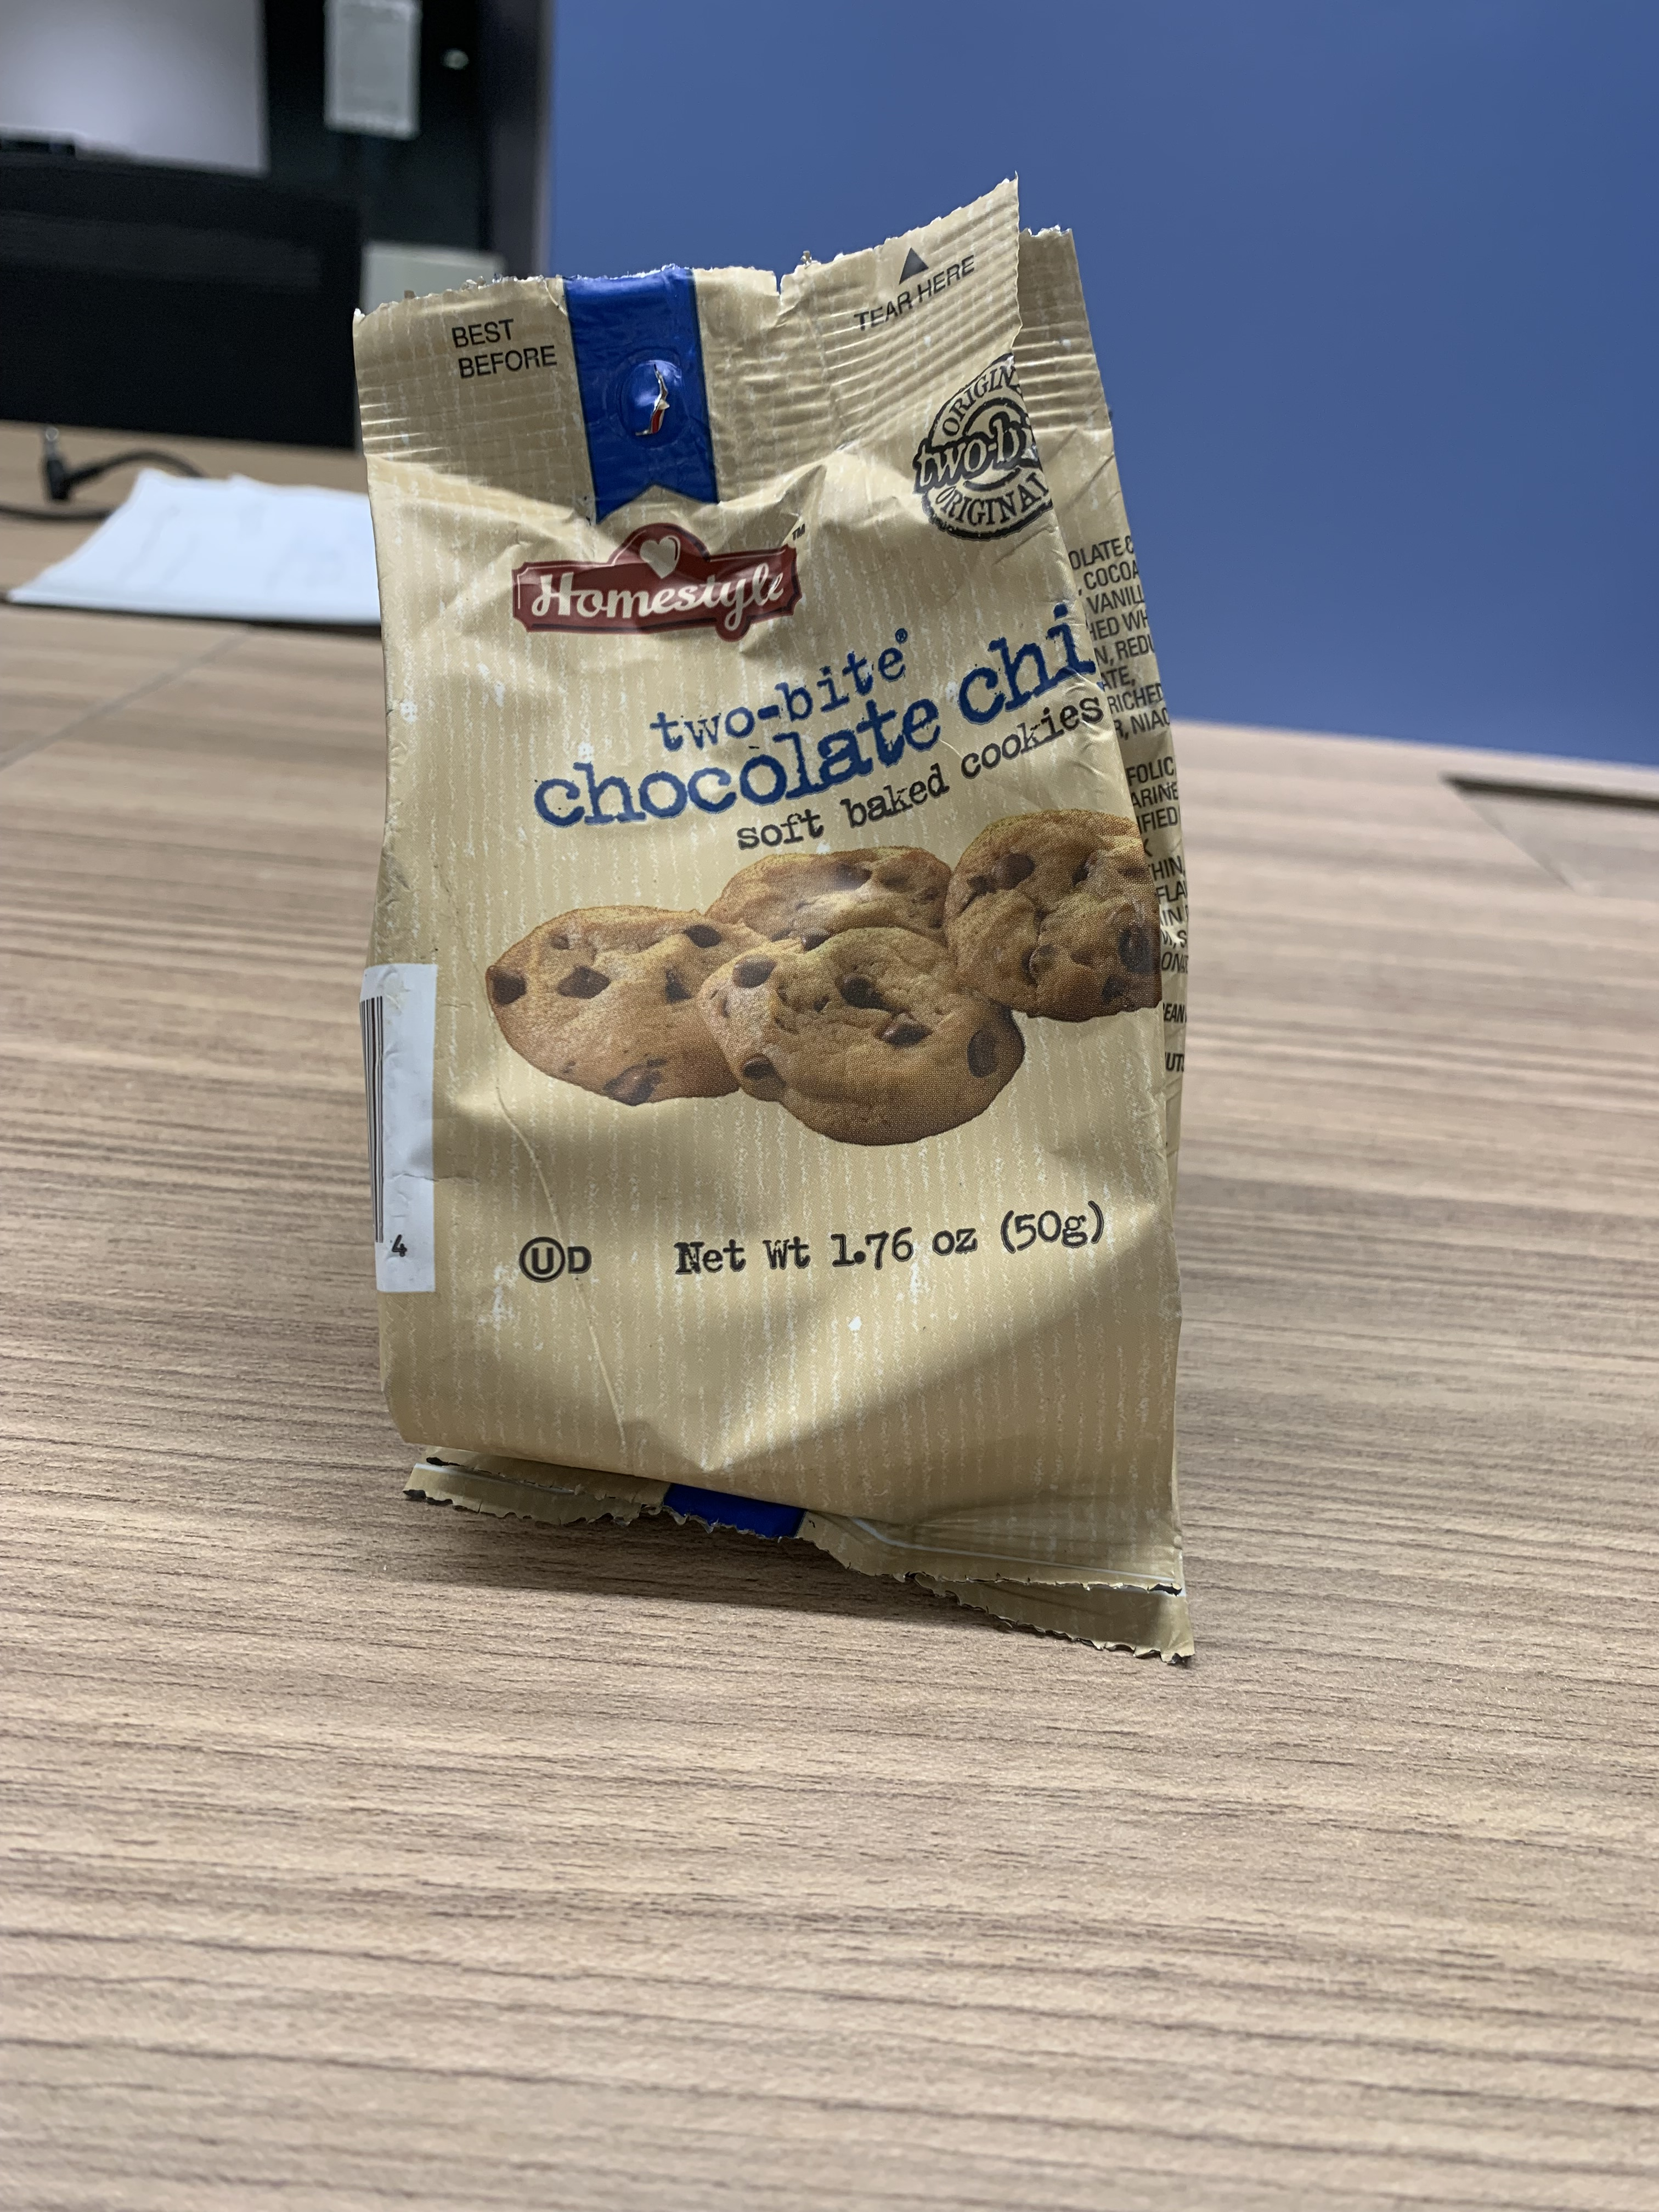cookies_1g-99g: (439, 310, 1161, 1484)
